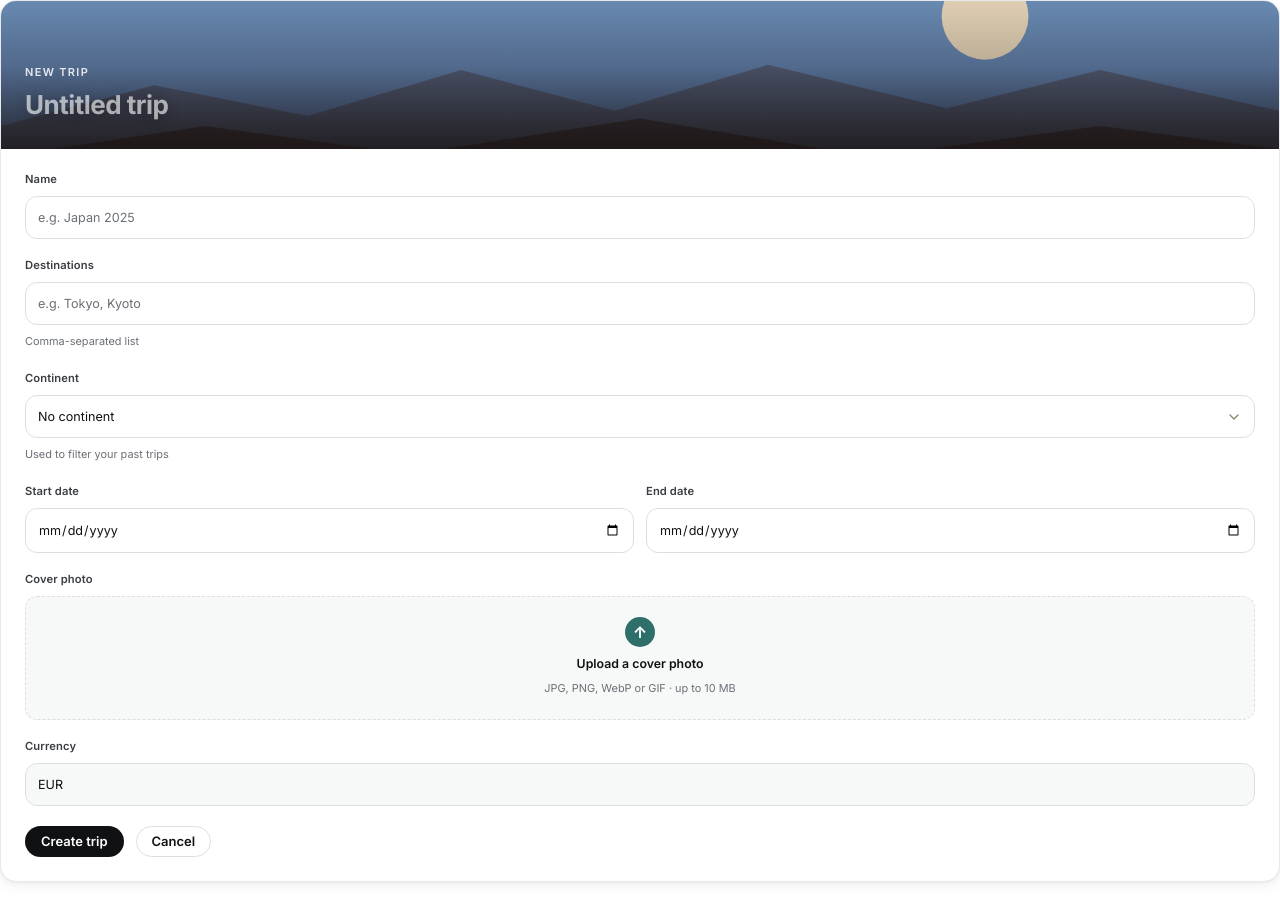
Test: TripForm — create mode › shows validation error when end date is before start date
Step 1. Type "My trip" into the field labelled "Name" → (640, 218), box [25,196,1255,239]
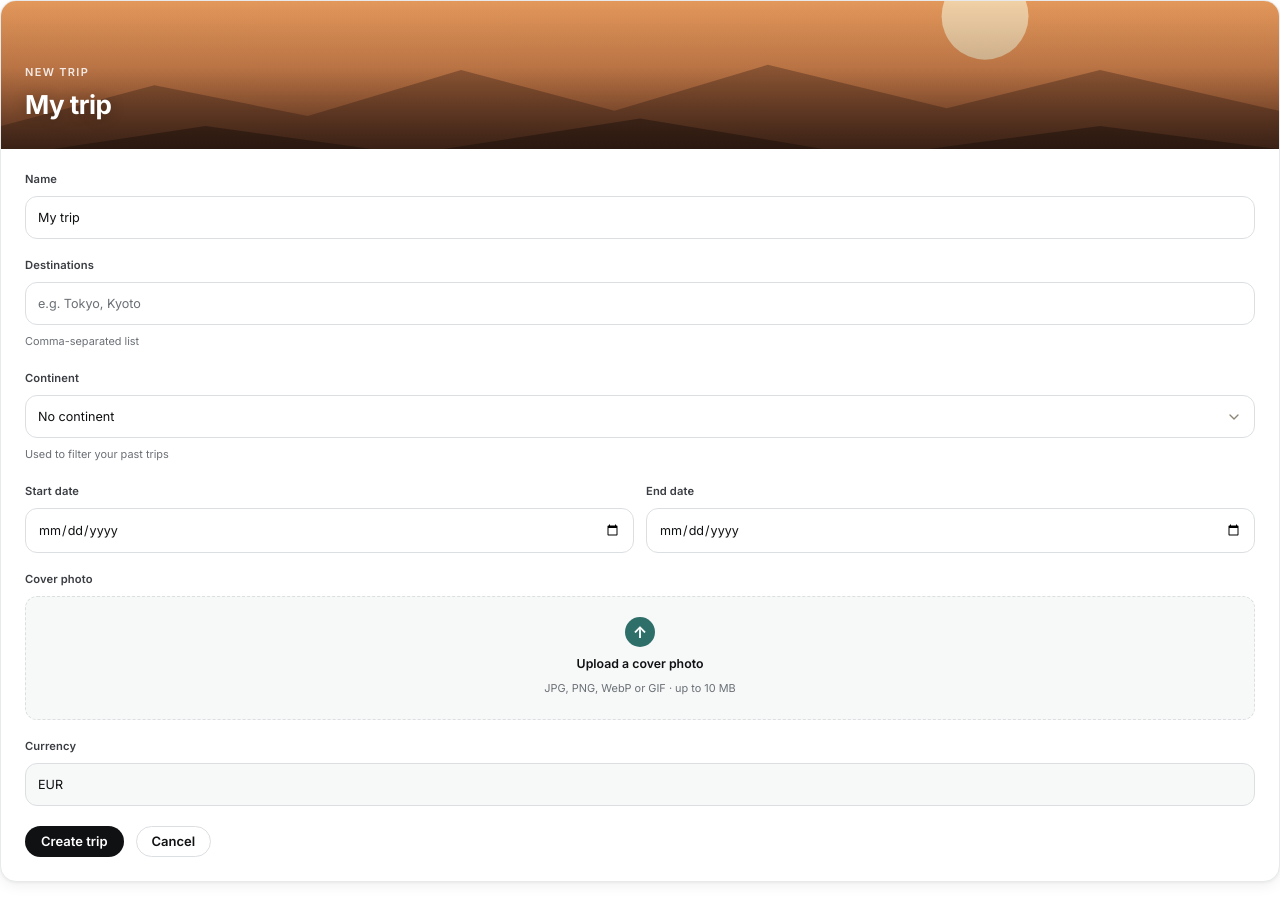
Step 2. Type "2025-06-10" into the date field labelled "Start date" → (330, 530), box [25,508,634,553]
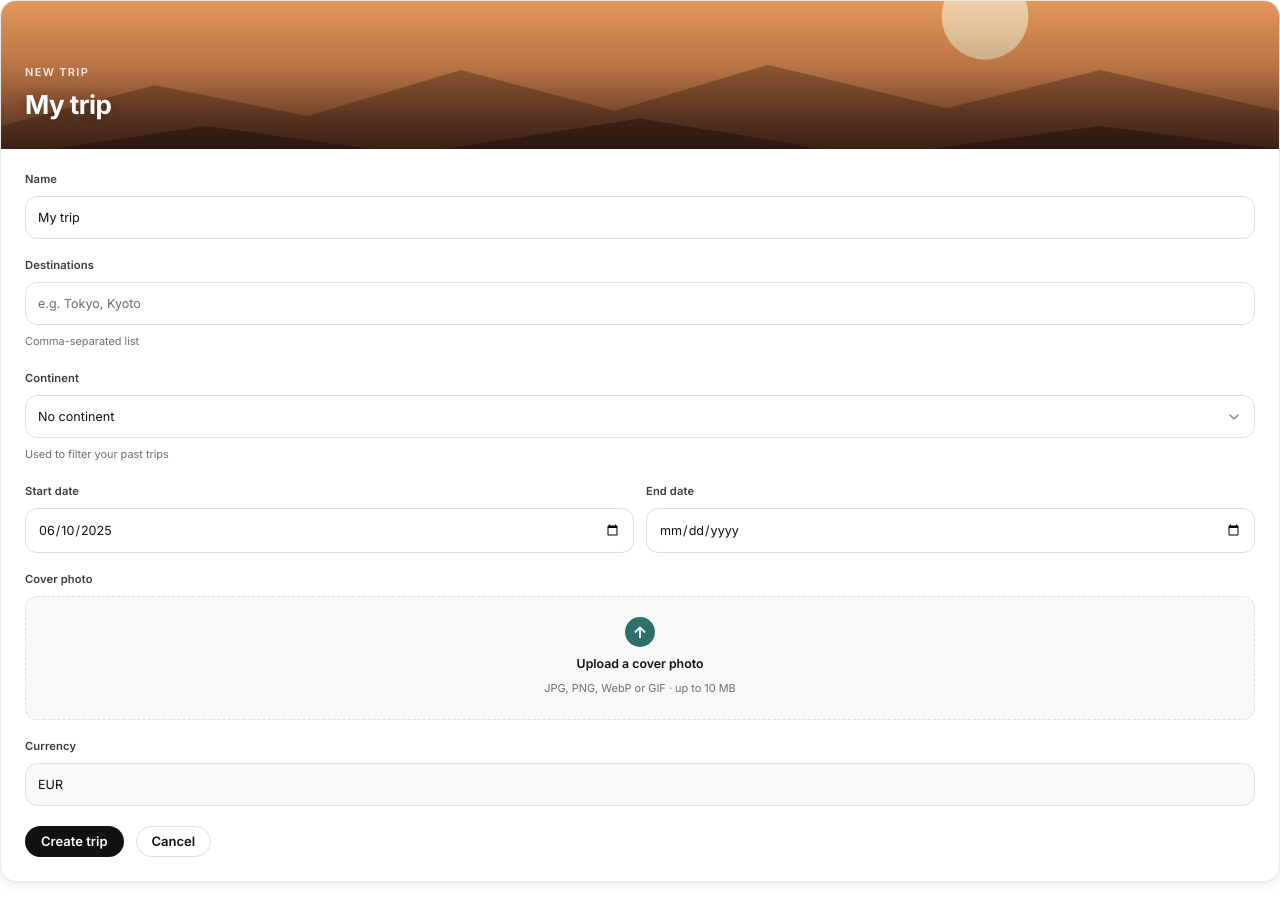
Step 3. Type "2025-06-01" into the date field labelled "End date" → (950, 530), box [646,508,1255,553]
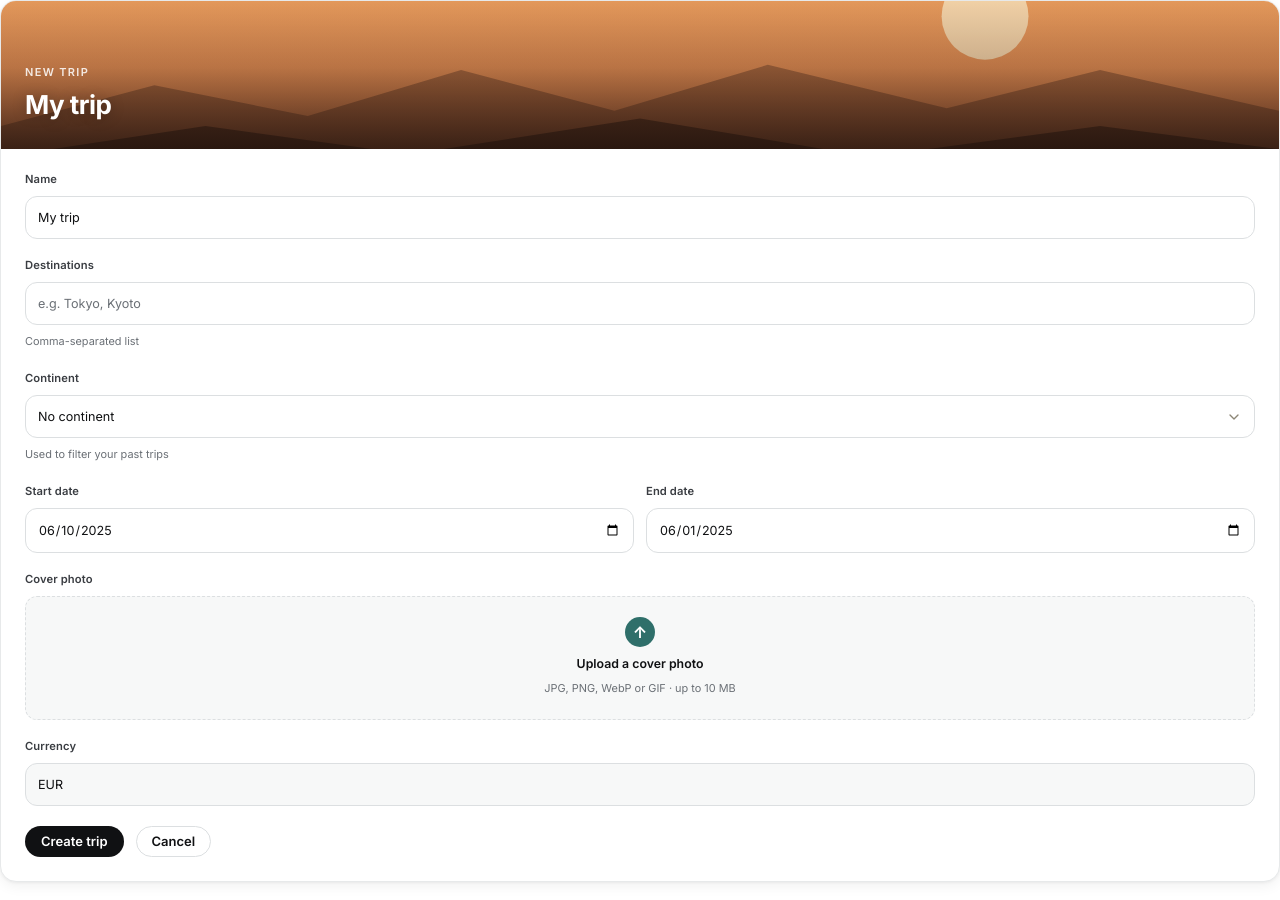
Step 4. Click the button "Create trip" → (74, 842), box [25,826,124,857]
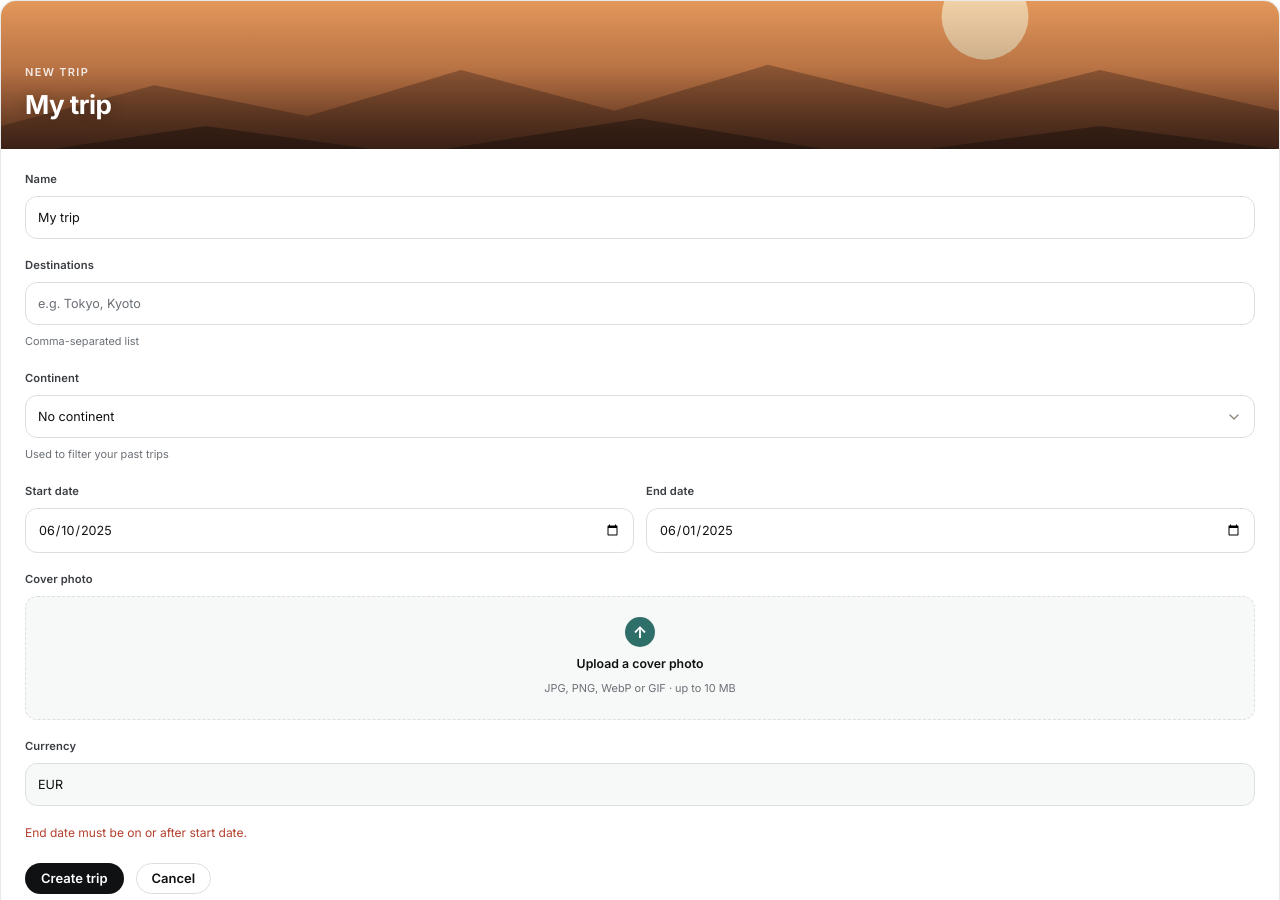
expect the message shows "End date must be": met, box [25,825,247,840]
